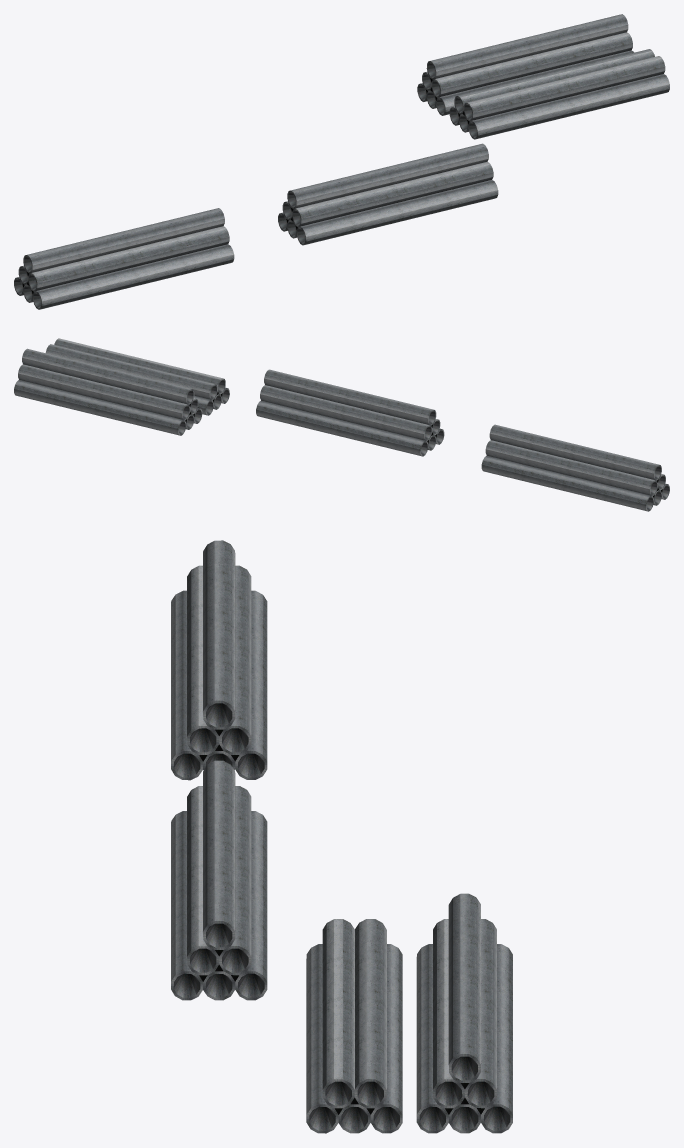
The model's file is sw_pipepile01.obj.
3 views of the same model, one above another, from view 1: azimuth 30°, elevation 25°; view 2: azimuth 150°, elevation 25°; view 3: azimuth 270°, elevation 25° (orthographic). The views are drawn at different scales.
Parts seen in each view (by area): view 1: sw_pipepile01; view 2: sw_pipepile01; view 3: sw_pipepile01.
Part boxes in pixels (box(x1,y1,x2,y2)): sw_pipepile01: box(14, 14, 669, 309); sw_pipepile01: box(14, 338, 669, 511); sw_pipepile01: box(171, 540, 512, 1133).
Bounding box in the file's own units: 27.79 × 2.86 × 7.22.
2 materials, 2 textured.
